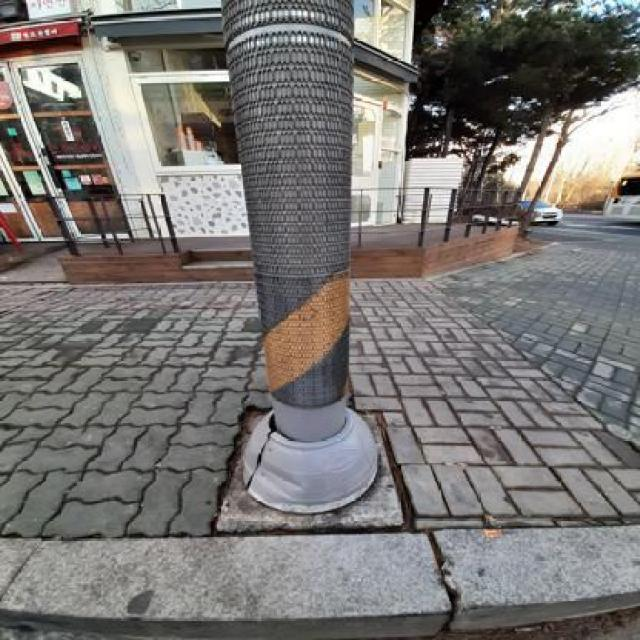pole: (204, 0, 398, 518)
